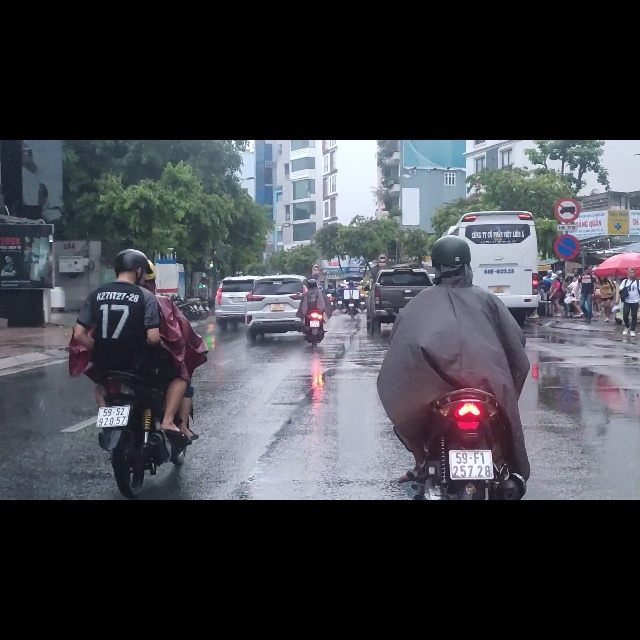bien_cam: (554, 164, 581, 214), (554, 102, 581, 149), (378, 201, 387, 216), (313, 219, 319, 232)
